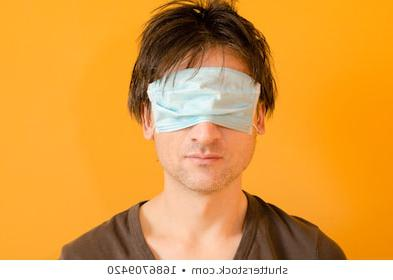mask_weared_incorrect: (148, 68, 257, 194)
